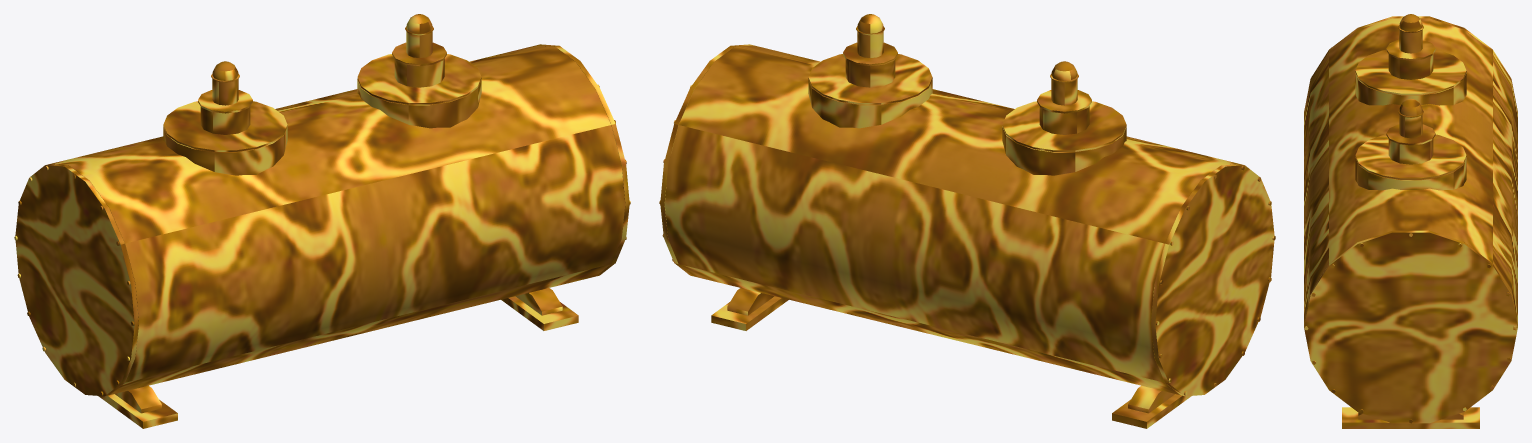
The model's file is POLIMOEROS.fbx.
3 views of the same model, side by side, from view 1: azimuth 30°, elevation 25°; view 2: azimuth 150°, elevation 25°; view 3: azimuth 270°, elevation 25° (orthographic). The views are drawn at different scales.
Visible parts, largest first — view 1: Object_2; view 2: Object_2; view 3: Object_2.
Part boxes in pixels (x1=…): Object_2: x1=14, y1=14, x2=630, y2=428; Object_2: x1=659, y1=14, x2=1275, y2=428; Object_2: x1=1304, y1=14, x2=1517, y2=428.
Size of the model in its own units: 9739 by 5633 by 3949.
